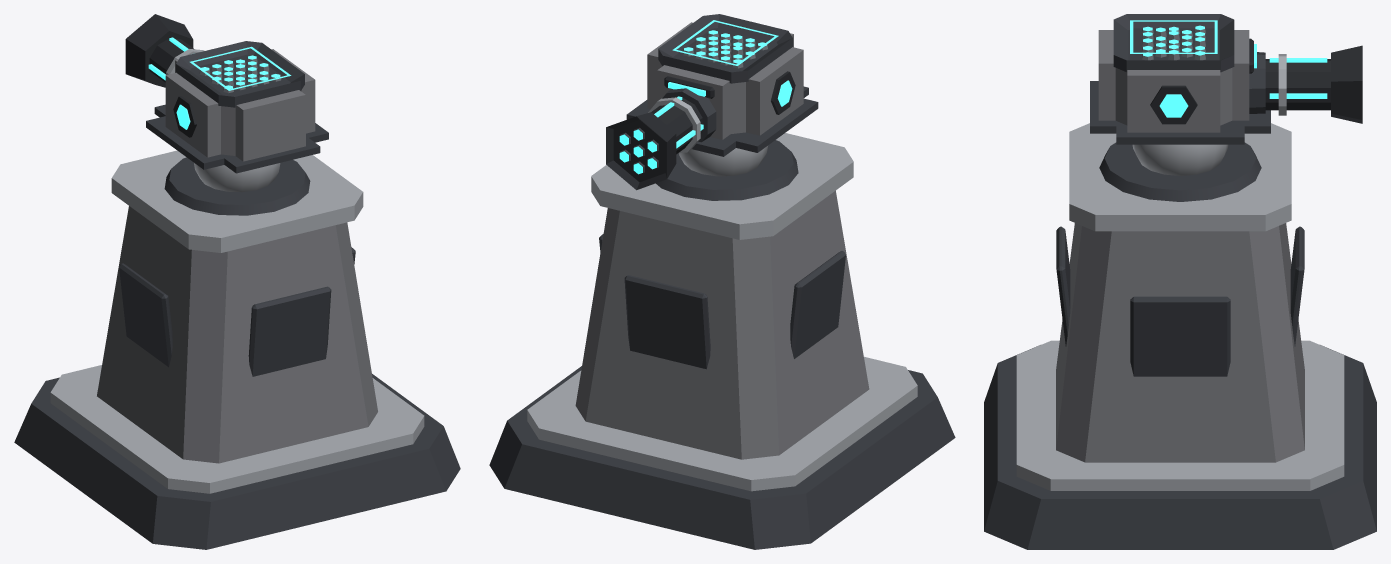
File: Tower_Nano.fbx
3 renders of one model, left to right at view 1: azimuth 30°, elevation 25°; view 2: azimuth 150°, elevation 25°; view 3: azimuth 270°, elevation 25°, orthographic. The views are drawn at different scales.
Parts seen in each view (by area): view 1: NT_Core, NT_Base, NT_Base_Plate, NT_Collar, NT_Head_Housing, NT_Core_Plate_1, NT_Rotation_Plate, NT_Top_Frame, NT_Core_Plate_3, NT_Head_Plate, NT_Swarm_Vent, NT_Neck_Joint (+2 smaller); view 2: NT_Core, NT_Base, NT_Base_Plate, NT_Collar, NT_Head_Housing, NT_Core_Plate_0, NT_Top_Frame, NT_Rotation_Plate, NT_Core_Plate_3, NT_Swarm_Vent, NT_Head_Plate, NT_Neck_Joint (+4 smaller); view 3: NT_Core, NT_Base, NT_Base_Plate, NT_Collar, NT_Head_Housing, NT_Core_Plate_2, NT_Rotation_Plate, NT_Top_Frame, NT_Head_Plate, NT_Launcher_Barrel, NT_Neck_Joint, NT_Swarm_Vent (+8 smaller).
Part boxes in pixels (bbox=[...]): NT_Core: bbox=[97, 206, 377, 463]; NT_Base: bbox=[14, 374, 460, 549]; NT_Base_Plate: bbox=[50, 365, 424, 493]; NT_Collar: bbox=[111, 150, 363, 252]; NT_Head_Housing: bbox=[165, 49, 315, 161]; NT_Core_Plate_1: bbox=[248, 286, 331, 376]; NT_Rotation_Plate: bbox=[164, 157, 310, 215]; NT_Top_Frame: bbox=[176, 41, 304, 107]; NT_Core_Plate_3: bbox=[119, 263, 172, 367]; NT_Head_Plate: bbox=[146, 104, 328, 173]; NT_Swarm_Vent: bbox=[125, 14, 193, 87]; NT_Neck_Joint: bbox=[194, 163, 280, 192]; NT_Core: bbox=[575, 190, 869, 459]; NT_Base: bbox=[489, 366, 955, 549]; NT_Base_Plate: bbox=[527, 356, 917, 491]; NT_Collar: bbox=[591, 133, 853, 239]; NT_Head_Housing: bbox=[647, 22, 803, 139]; NT_Core_Plate_0: bbox=[624, 275, 710, 369]; NT_Top_Frame: bbox=[658, 14, 792, 83]; NT_Rotation_Plate: bbox=[656, 140, 798, 200]; NT_Core_Plate_3: bbox=[790, 251, 845, 358]; NT_Swarm_Vent: bbox=[606, 112, 676, 190]; NT_Head_Plate: bbox=[626, 86, 818, 156]; NT_Neck_Joint: bbox=[679, 146, 767, 176]; NT_Core: bbox=[1056, 223, 1304, 462]; NT_Base: bbox=[984, 345, 1376, 549]; NT_Base_Plate: bbox=[1016, 340, 1344, 490]; NT_Collar: bbox=[1069, 123, 1291, 231]; NT_Head_Housing: bbox=[1098, 30, 1249, 132]; NT_Core_Plate_2: bbox=[1130, 296, 1230, 376]; NT_Rotation_Plate: bbox=[1099, 142, 1261, 201]; NT_Top_Frame: bbox=[1113, 14, 1234, 72]; NT_Head_Plate: bbox=[1090, 81, 1270, 144]; NT_Launcher_Barrel: bbox=[1265, 59, 1330, 110]; NT_Neck_Joint: bbox=[1132, 144, 1228, 175]; NT_Swarm_Vent: bbox=[1331, 45, 1362, 123].
Bounding box in the file's own units: 3 × 3.62 × 3.
